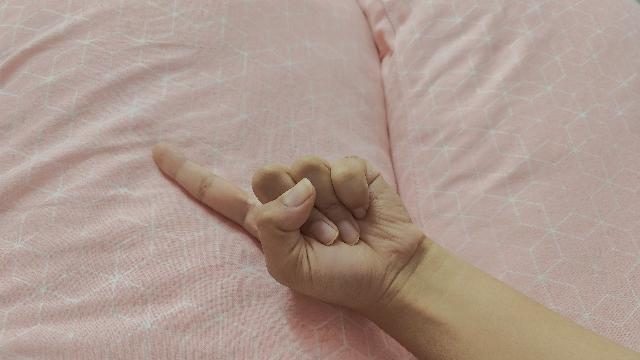soochi: (150, 144, 640, 360)
